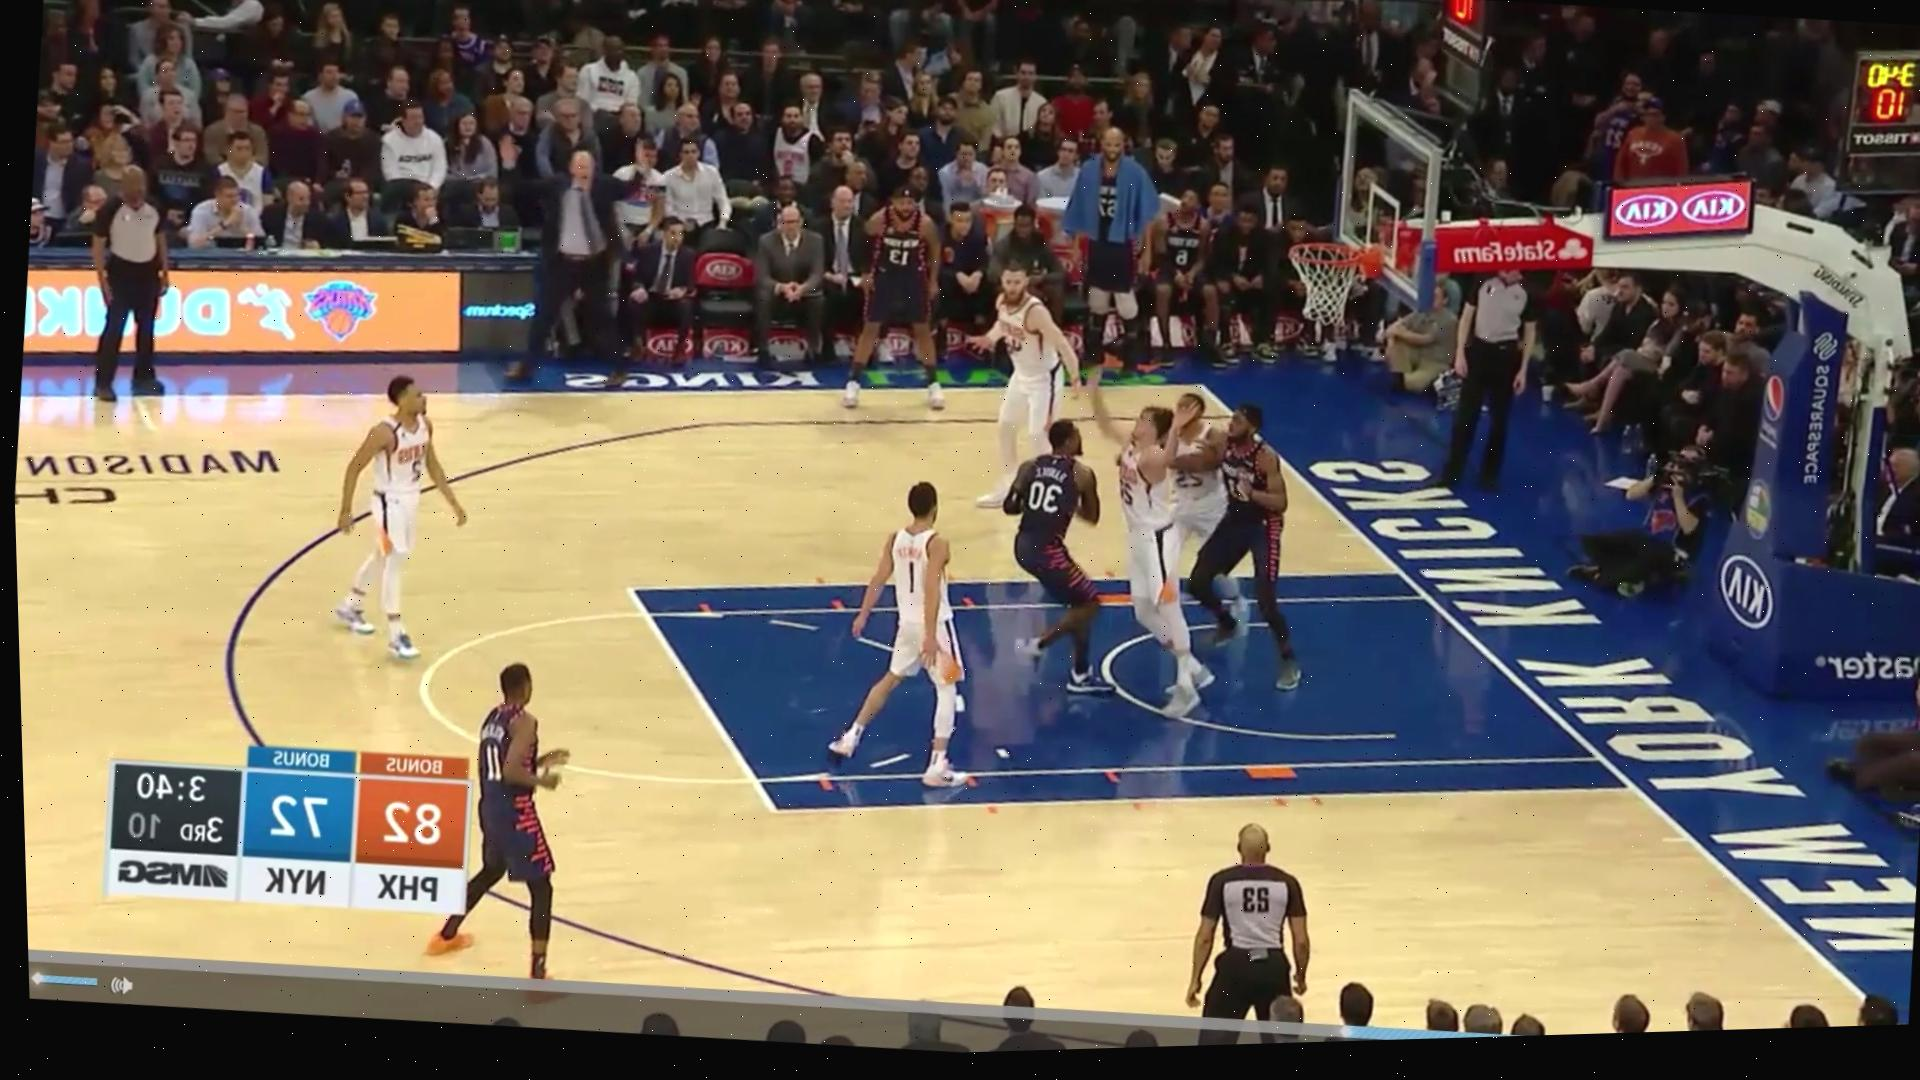foul: (985, 347, 1213, 716)
